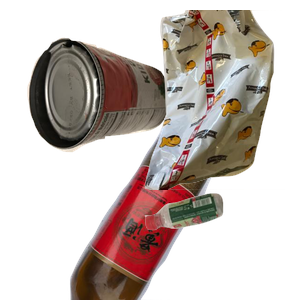glass: (67, 120, 282, 300)
metal: (25, 35, 189, 180)
plastic: (142, 191, 300, 300)
trash: (127, 10, 300, 190)
